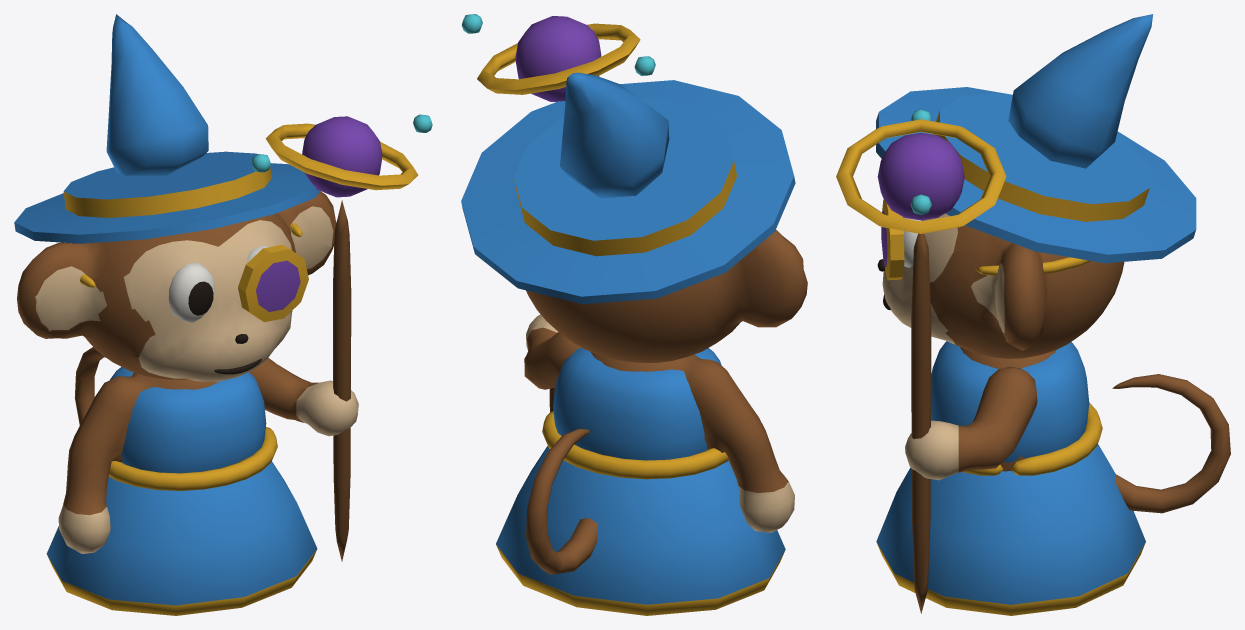
3 renders of one model, left to right at view 1: azimuth 30°, elevation 25°; view 2: azimuth 150°, elevation 25°; view 3: azimuth 270°, elevation 25°, orthographic. The views are drawn at different scales.
Parts seen in each view (by area): view 1: mago_2_cabeca, mago_0_corpo, mago_3_braco, mago_1_cauda; view 2: mago_2_cabeca, mago_0_corpo, mago_3_braco, mago_1_cauda; view 3: mago_2_cabeca, mago_0_corpo, mago_3_braco, mago_1_cauda.
Part boxes in pixels (bbox=[...]): mago_2_cabeca: bbox=[14, 14, 336, 381]; mago_0_corpo: bbox=[46, 367, 317, 615]; mago_3_braco: bbox=[249, 114, 432, 561]; mago_1_cauda: bbox=[74, 347, 105, 425]; mago_2_cabeca: bbox=[461, 72, 807, 362]; mago_0_corpo: bbox=[496, 348, 794, 615]; mago_3_braco: bbox=[461, 14, 655, 411]; mago_1_cauda: bbox=[526, 429, 597, 574]; mago_2_cabeca: bbox=[876, 14, 1196, 358]; mago_0_corpo: bbox=[876, 341, 1145, 615]; mago_3_braco: bbox=[836, 109, 1037, 613]; mago_1_cauda: bbox=[1112, 374, 1230, 513].
Bounding box in the file's own units: 0.9131 × 1.24 × 0.7906.
